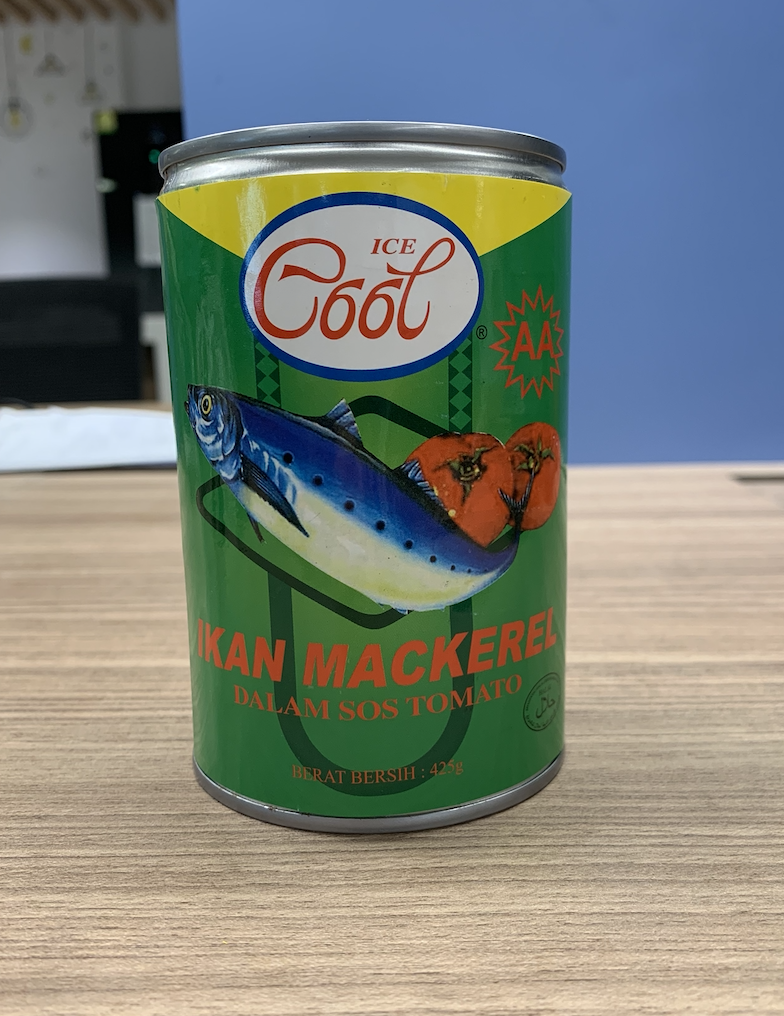halal: (535, 688, 556, 721)
